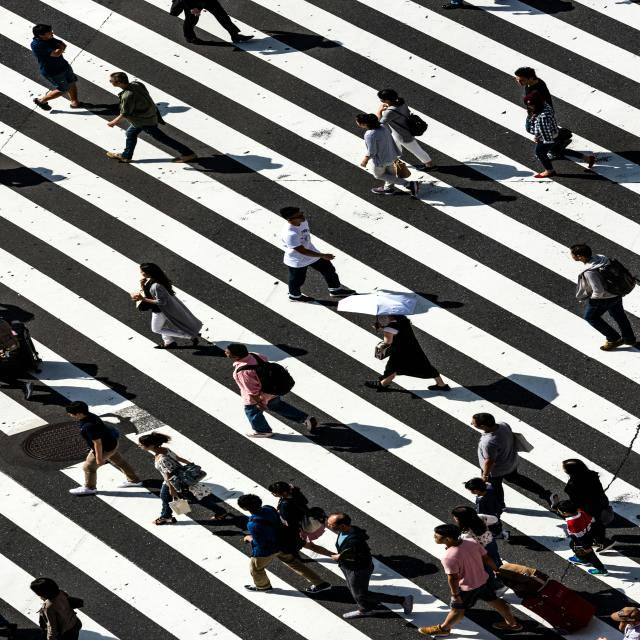no_hard_hat: (611, 607, 640, 632)
no_head_wear: (337, 291, 417, 316), (139, 432, 171, 446), (30, 577, 59, 591), (434, 524, 461, 539), (267, 481, 293, 494), (463, 477, 487, 491), (569, 244, 593, 257), (238, 494, 262, 507), (553, 500, 577, 513), (472, 413, 495, 426), (450, 506, 477, 517), (523, 90, 544, 104), (65, 401, 89, 413), (279, 206, 301, 219), (226, 343, 248, 356), (328, 513, 351, 525), (377, 89, 399, 101), (562, 459, 587, 469), (514, 67, 536, 78), (356, 113, 378, 124), (140, 263, 162, 273), (33, 24, 52, 35), (110, 72, 129, 83)
person: (420, 524, 522, 637), (338, 291, 451, 391), (238, 494, 330, 593), (225, 343, 317, 438), (106, 72, 198, 163), (328, 513, 405, 618), (471, 413, 552, 509), (570, 244, 640, 351), (66, 401, 142, 496), (515, 67, 572, 178), (131, 263, 202, 348), (281, 207, 342, 301), (139, 433, 197, 525), (562, 459, 615, 552), (377, 89, 437, 171), (268, 481, 325, 558), (553, 500, 609, 576), (31, 24, 80, 110), (524, 91, 572, 178), (356, 113, 400, 195), (451, 506, 503, 572), (30, 577, 84, 640), (463, 478, 503, 519), (609, 606, 640, 640), (568, 151, 595, 168), (569, 151, 595, 168), (586, 553, 607, 574)
